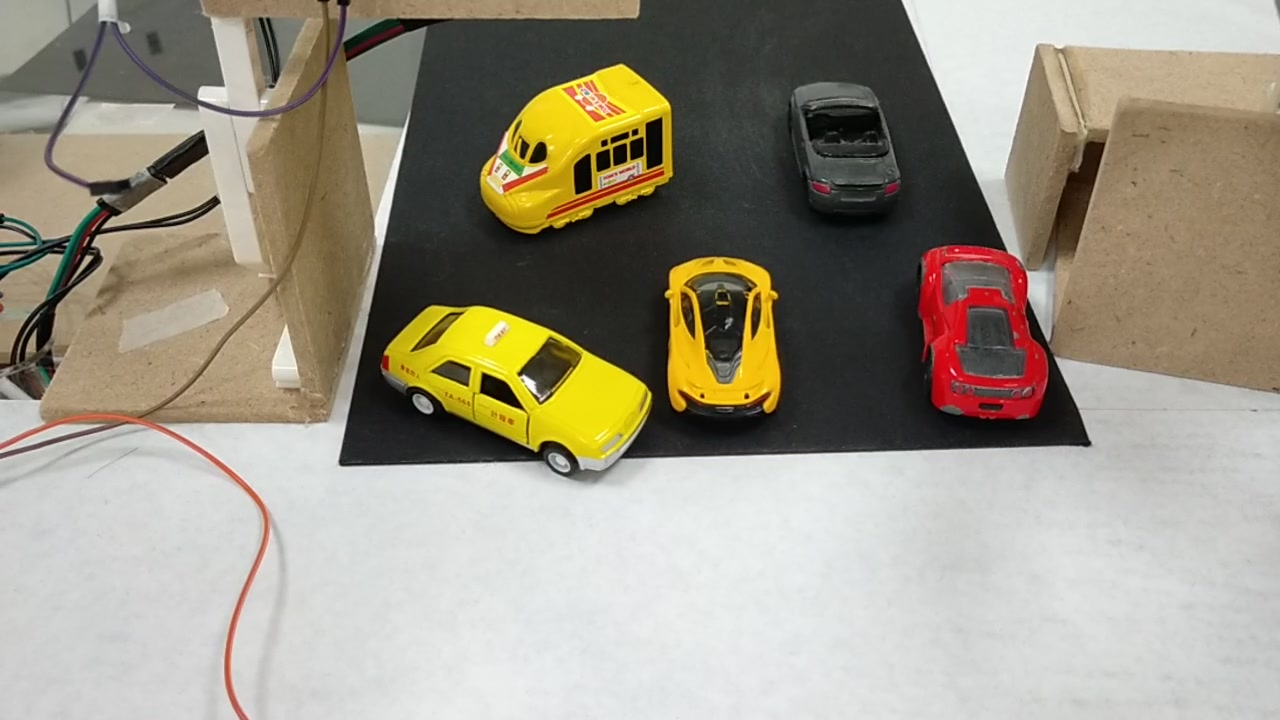car: (373, 297, 655, 479), (917, 250, 1050, 433), (660, 256, 782, 421), (789, 82, 903, 218)
